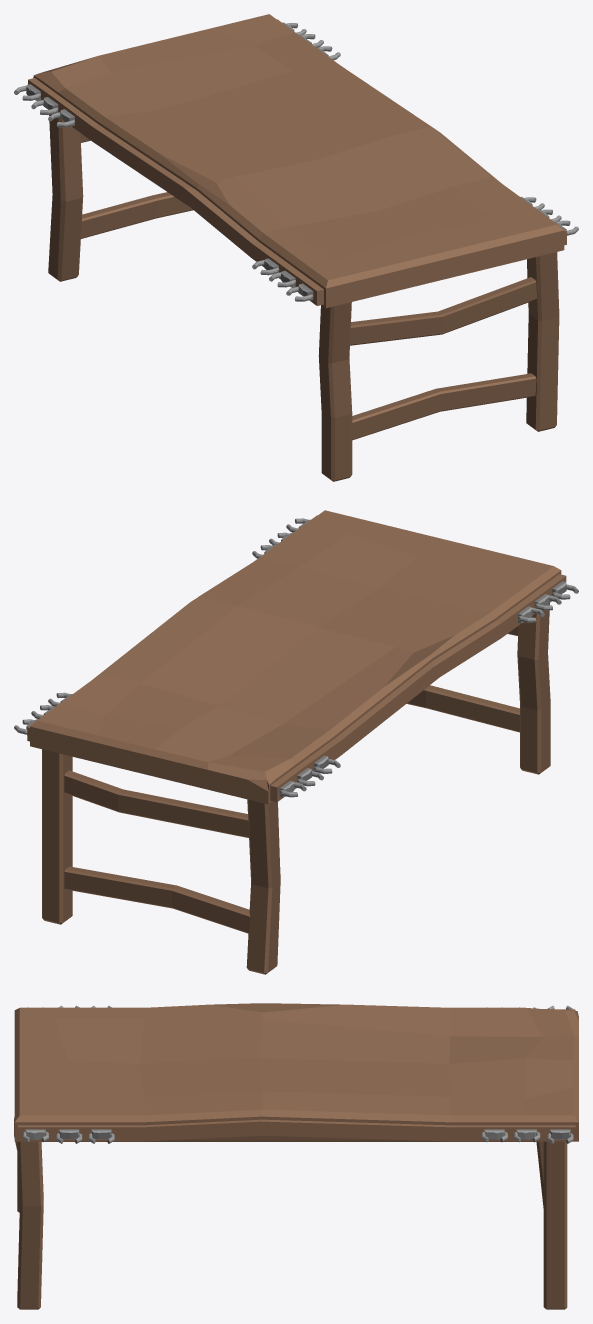
Rendered from Workbench_02.fbx.
3 views of the same model, one above another, from view 1: azimuth 30°, elevation 25°; view 2: azimuth 150°, elevation 25°; view 3: azimuth 270°, elevation 25° (orthographic). The views are drawn at different scales.
Visible parts, largest first — view 1: Workbench_02; view 2: Workbench_02; view 3: Workbench_02.
Part boxes in pixels (x1,y1,x2,y2): Workbench_02: (14,14,578,481); Workbench_02: (14,510,578,974); Workbench_02: (14,1003,578,1309).
Bounding box in the file's own units: 168 × 118 × 301.
Materials: 1 (1 with a texture image).
